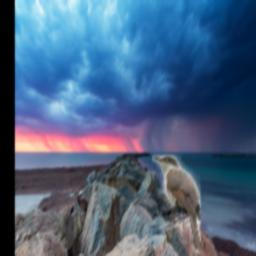Cuckoo: (153, 155, 202, 254)
